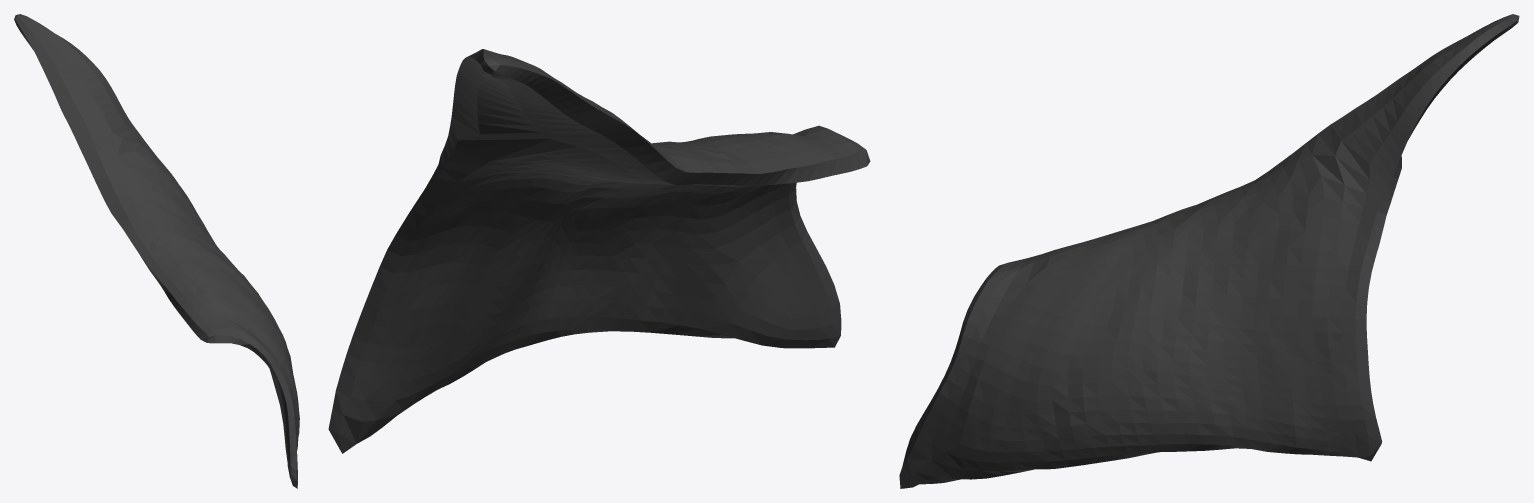
The model's file is lev_nasolab.glb.
3 renders of one model, left to right at view 1: azimuth 30°, elevation 25°; view 2: azimuth 150°, elevation 25°; view 3: azimuth 270°, elevation 25°, orthographic. The views are drawn at different scales.
Visible parts, largest first — view 1: lev_nasolab; view 2: lev_nasolab; view 3: lev_nasolab.
Part boxes in pixels (x1,y1,x2,y2): lev_nasolab: (14,14,299,488); lev_nasolab: (328,49,870,453); lev_nasolab: (899,14,1519,488).
Size of the model in its own units: 0.4244 by 0.9662 by 1.24.
Materials: 1 (1 with a texture image).
